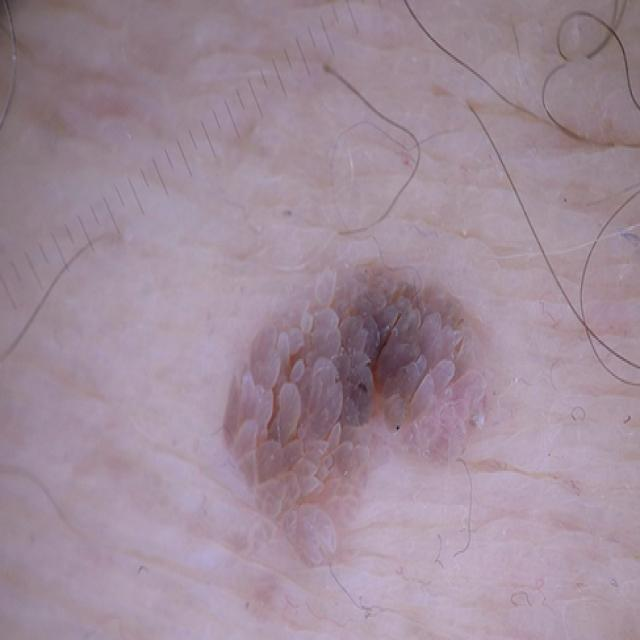Keratosis: (195, 203, 514, 614)
